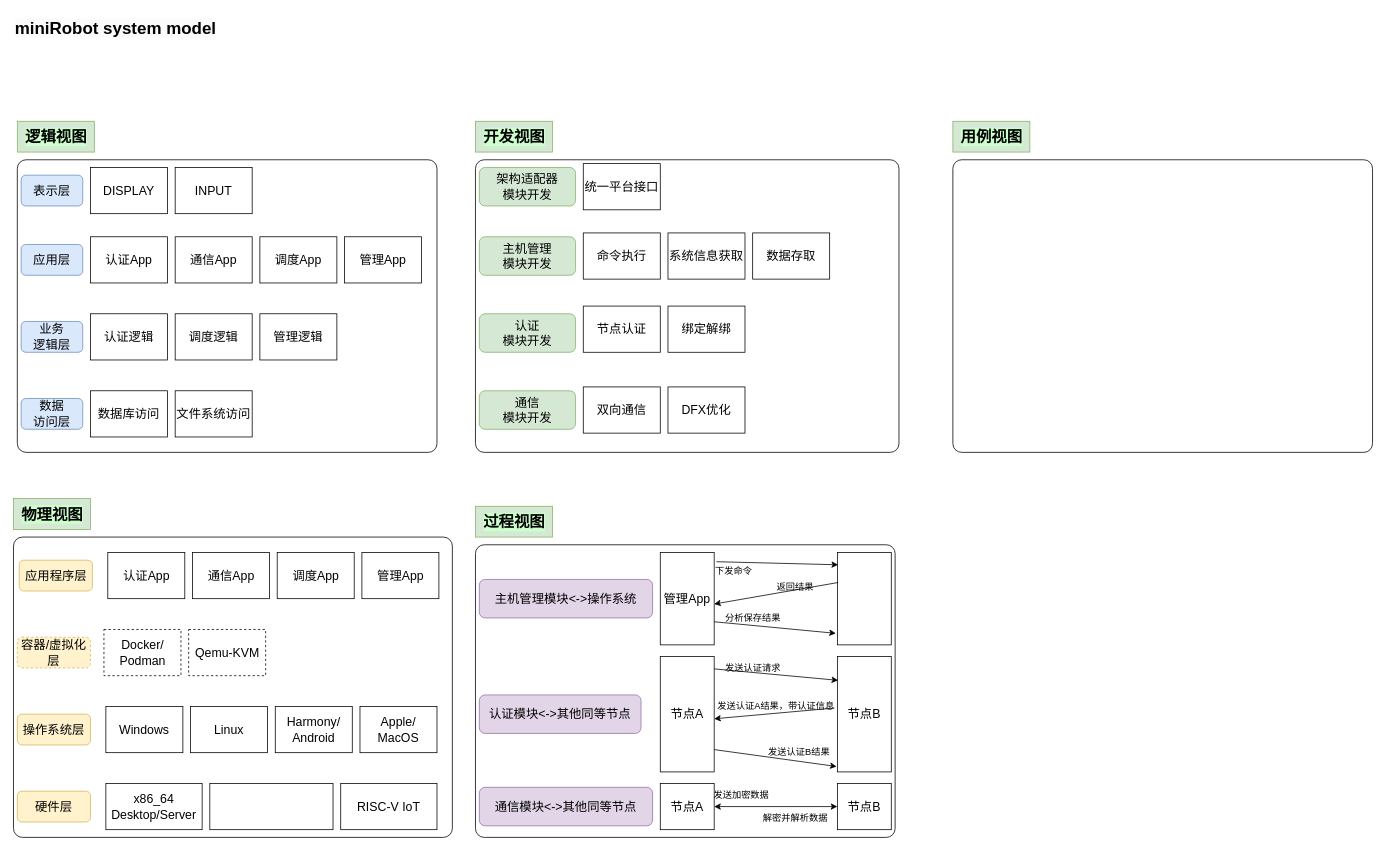
This 1386x851 diagram has some shape labels left out. The box of each missing label's shape, as (x1, y1, x2, y2) in pixels:
aarch64 Desktop/Server/IoT: (209, 783, 333, 830)
OS: (837, 552, 891, 645)
